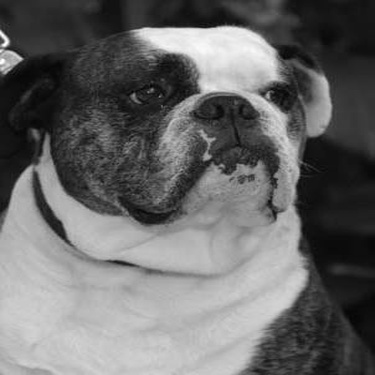dog: (1, 19, 371, 370)
